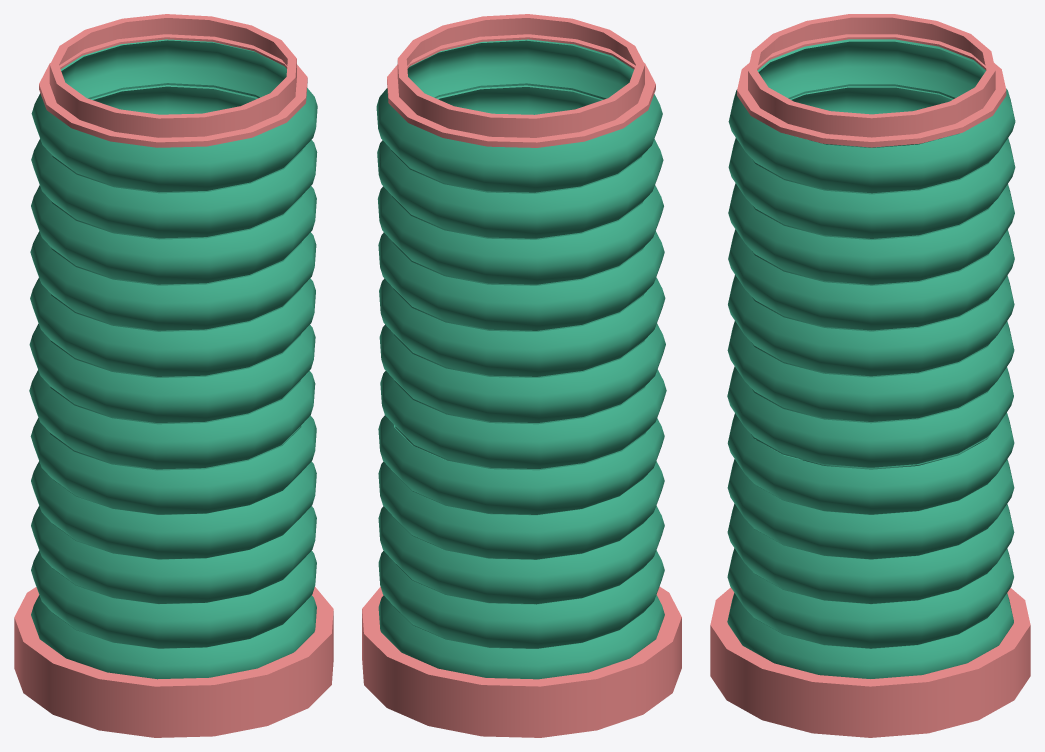
File: LongTube.FBX
The picture shows the model from 3 angles, left to right: view 1: azimuth 30°, elevation 25°; view 2: azimuth 150°, elevation 25°; view 3: azimuth 270°, elevation 25°; orthographic projection.
Visible parts, largest first — view 1: LongTube; view 2: LongTube; view 3: LongTube.
Boxes of the visible parts, <box> form: LongTube: <box>14,14,333,737</box>; LongTube: <box>362,14,681,737</box>; LongTube: <box>710,14,1030,737</box>.
Bounding box in the file's own units: 56.2 × 118 × 56.45.
